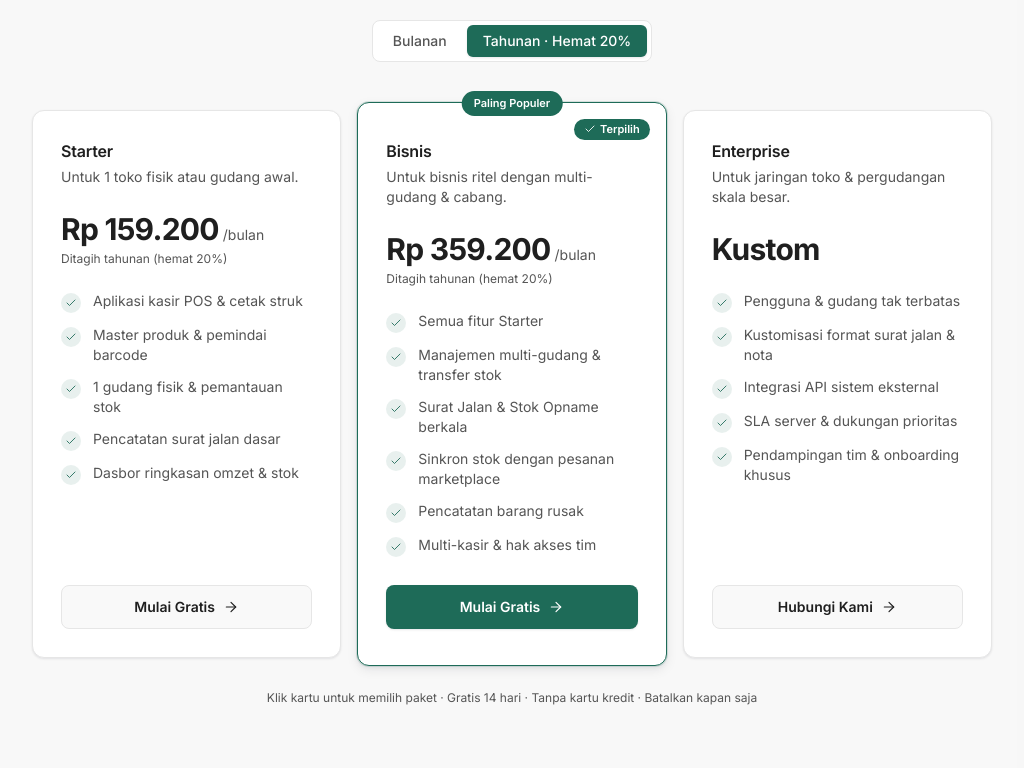
Test: PricingSection › klik kartu Starter memindahkan tanda Terpilih ke Starter
(page scrolled)
Click the radio button that starts with "Starter": (187, 384) [32, 110, 341, 658]
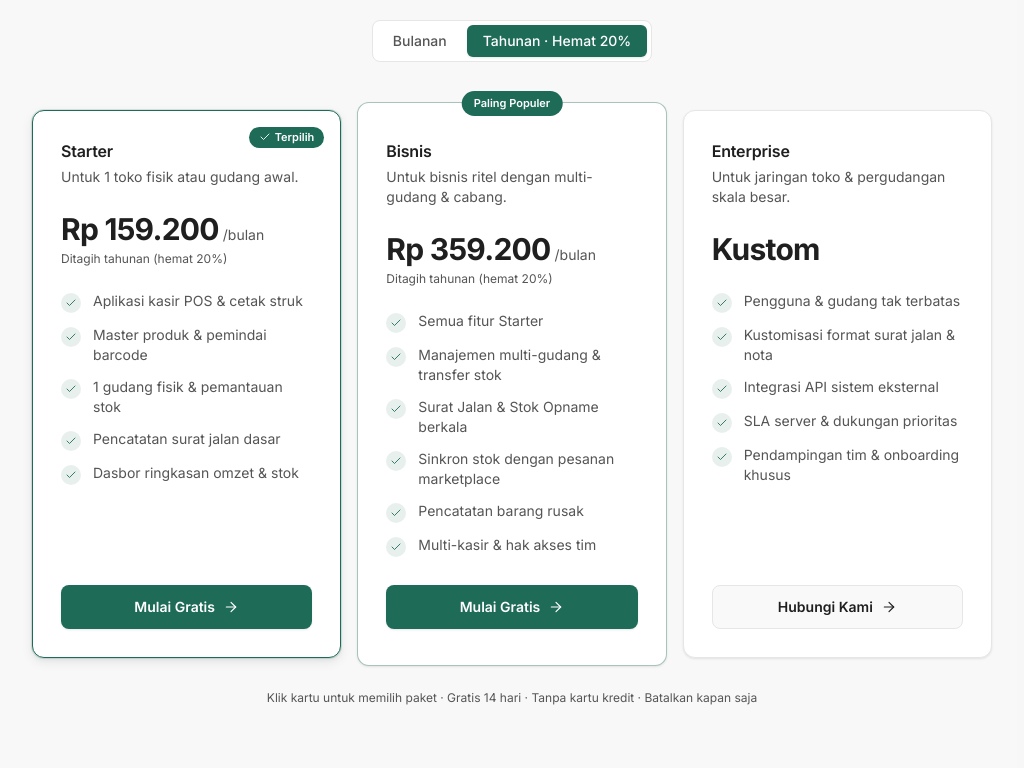
Expected: the radio button that starts with "Paling Populer" does not show "Terpilih", [357, 102, 667, 666]
Expected: the radio button that starts with "Terpilih" is shown, [32, 110, 341, 658]
